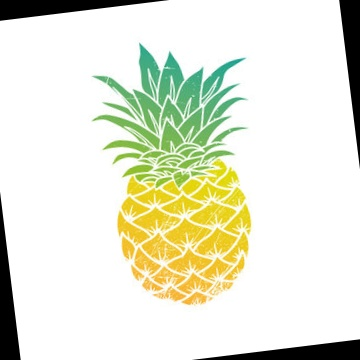Pineapple: (81, 40, 253, 304)
